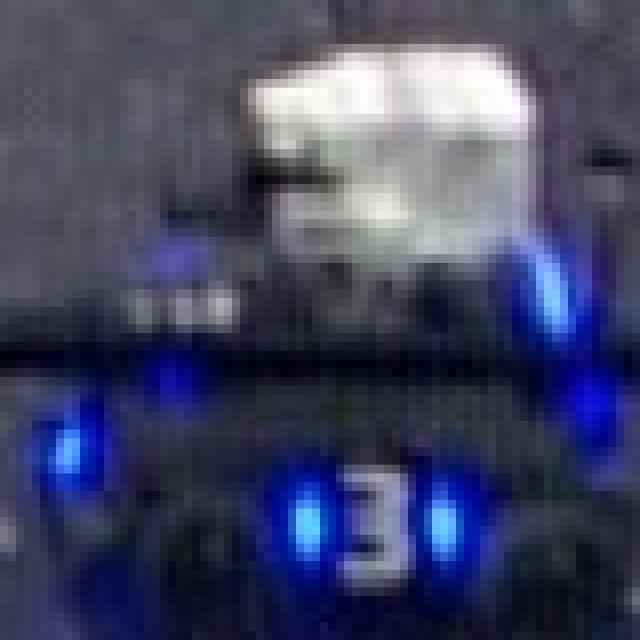B3: (256, 438, 480, 596)
